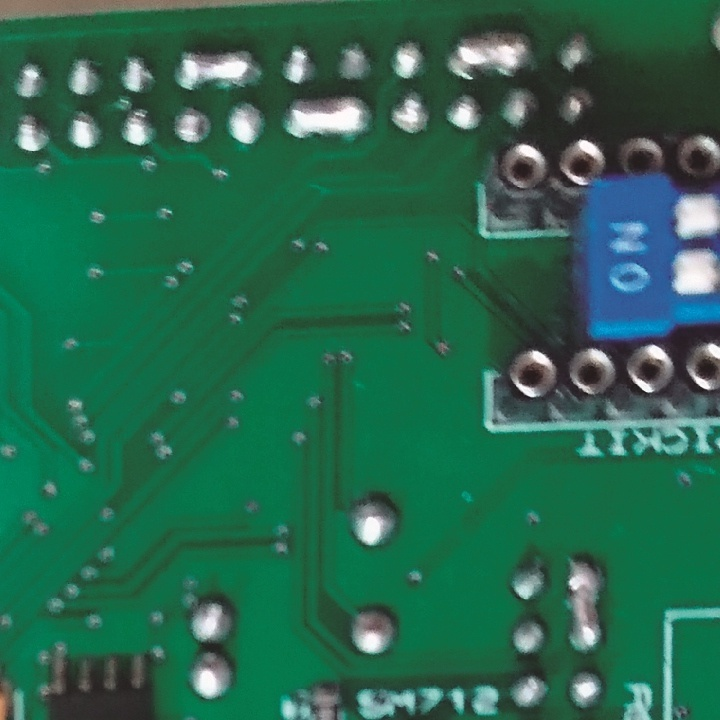F: (390, 89, 433, 140), (171, 103, 212, 153)
P: (441, 32, 539, 85), (564, 556, 610, 654), (279, 97, 369, 141), (171, 48, 259, 90)
